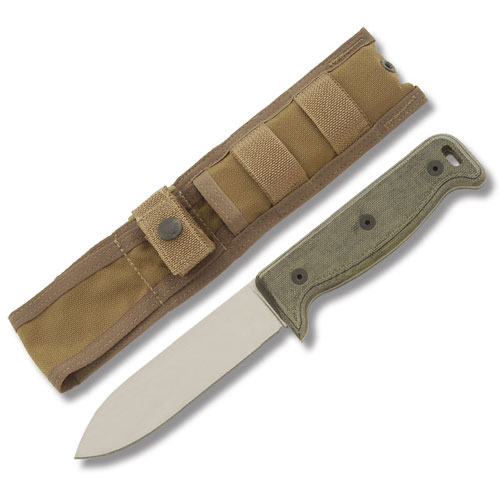knief: (55, 139, 491, 452)
